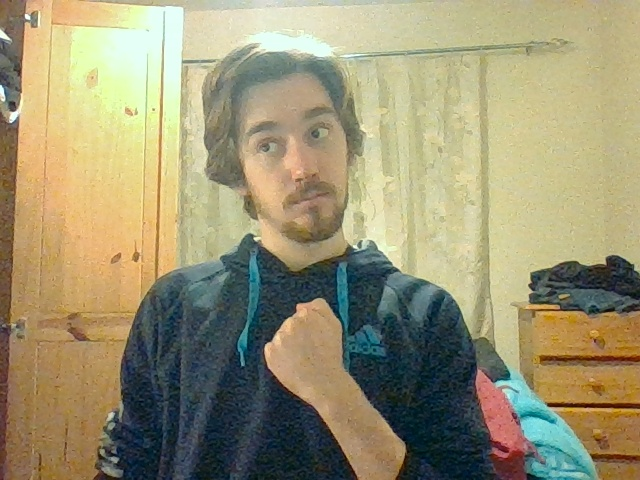my: (265, 297, 344, 393)
